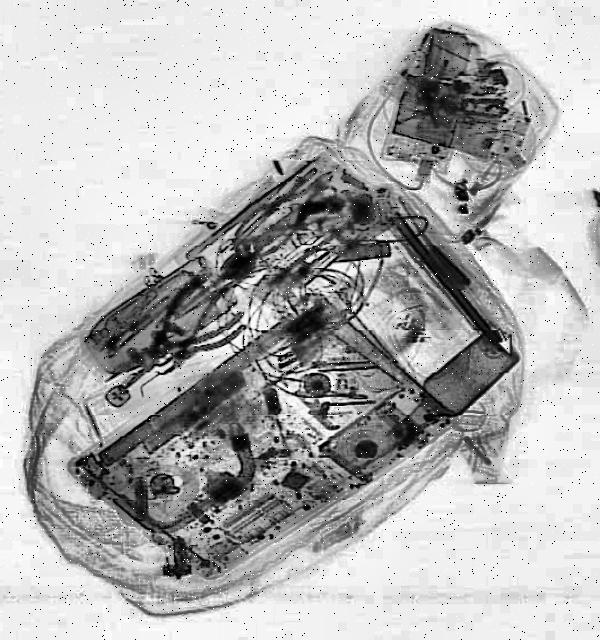Pliers: (92, 269, 248, 415), (230, 156, 356, 270), (146, 295, 250, 395)
